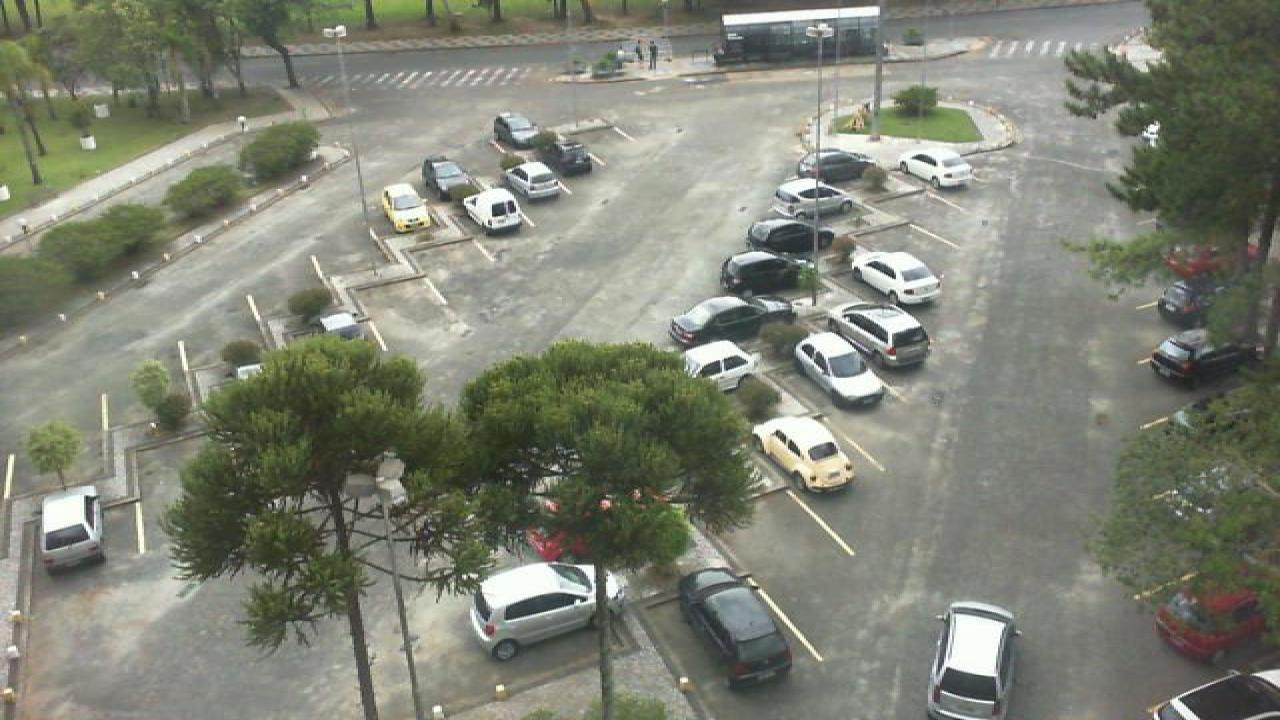Car: (468, 559, 628, 664), (676, 566, 796, 687), (926, 599, 1016, 720), (1152, 586, 1268, 665), (752, 415, 858, 495), (792, 330, 888, 407), (826, 301, 934, 369), (1148, 669, 1280, 720), (1148, 328, 1256, 390), (38, 484, 108, 574), (666, 294, 772, 346), (848, 250, 942, 307), (716, 248, 810, 304), (680, 340, 758, 395), (744, 215, 836, 261), (1158, 276, 1230, 328), (770, 177, 858, 218), (1160, 243, 1252, 281), (460, 186, 524, 234), (796, 148, 876, 186), (898, 150, 974, 188), (380, 181, 436, 232), (420, 156, 480, 202), (536, 134, 596, 178), (502, 161, 566, 202), (490, 112, 542, 148), (318, 310, 368, 346)
